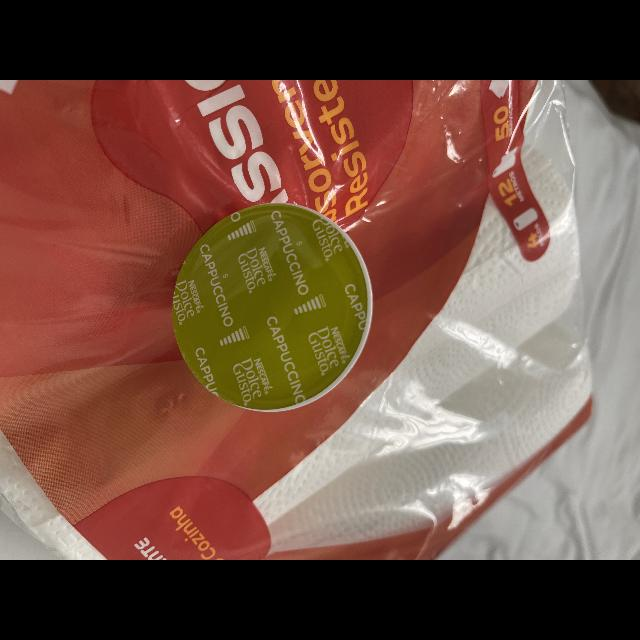intact_capsule: (160, 193, 380, 424)
